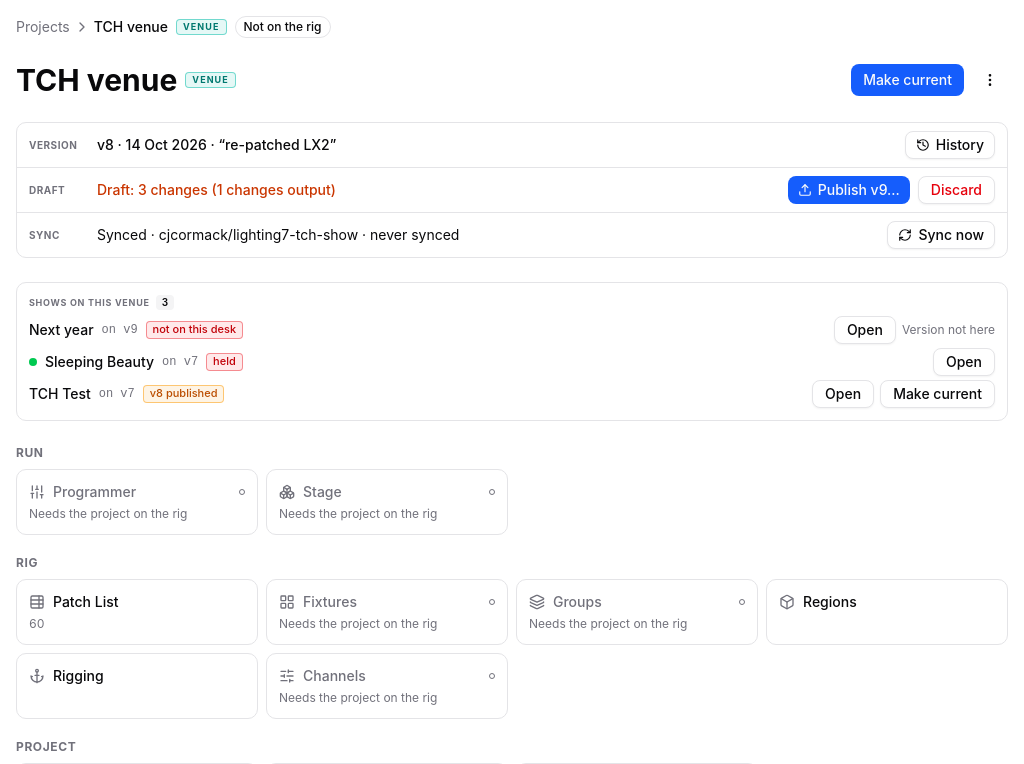
Test: a venue’s home › closes an open Discard when another window empties the draft, and does not reopen it when it refills
Click the button "Discard".
click(956, 190)  # box [918,176,995,204]
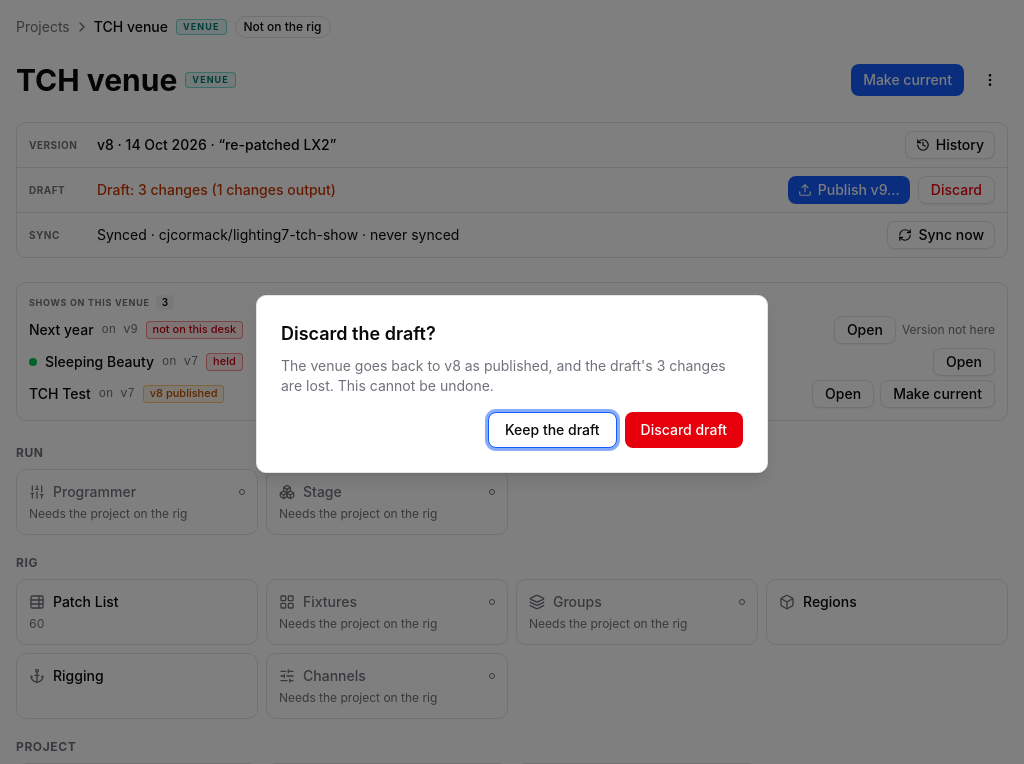
Check: the heading "Discard the draft?" is shown, box [281,323,436,344]
